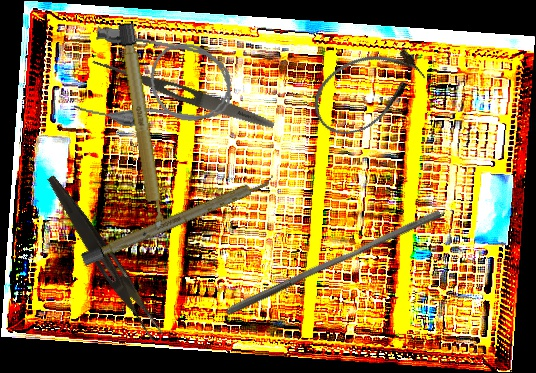Cannula: (72, 24, 239, 142), (301, 32, 433, 148)
Dressing Forceps: (38, 172, 170, 343), (89, 55, 277, 133)
Pusher: (224, 201, 443, 325)
Scalpel Handle: (79, 172, 278, 267), (117, 22, 167, 232)
